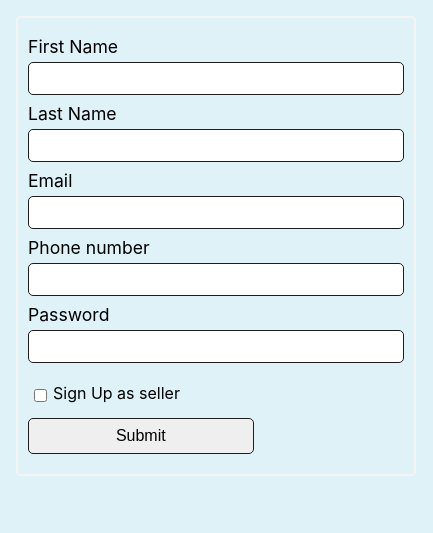
Scenario: Check validations for last_name
This screenshot has width=433, height=533.
In the field with test id "last_name": point(216, 146) x1=28 y1=129 x2=404 y2=162, type "Ae"
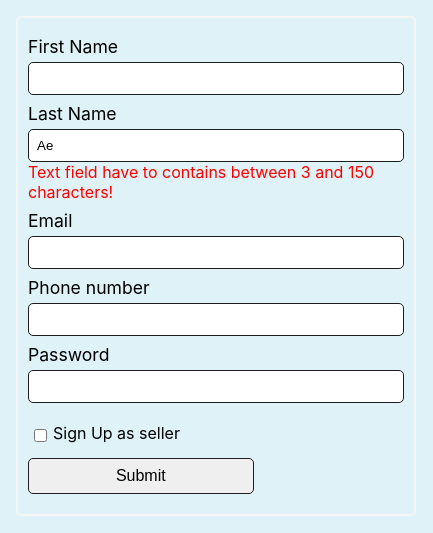
Check: the text "Text field have to contains between 3 and 150 characters!" is shown, box x1=28 y1=162 x2=404 y2=202
Check: the text with test id "valerror-last_name" reads "Text field have to contains between 3 and 150 characters!", box x1=28 y1=162 x2=374 y2=202
Replace the text in the field with test id "last_name" with "ewafewa waef ewaf ewafwe afweaf 34qr43 f43f43wf 4we3 fe4fe4 fef4q a4f 4ef 4ef 43e 4ef4 3efwe4afas efdsa fsdaf443rtt34f34fe4r fddfs fdsgdfsggfsd fsdgdfsgdfsg": point(216, 146) x1=28 y1=129 x2=404 y2=162
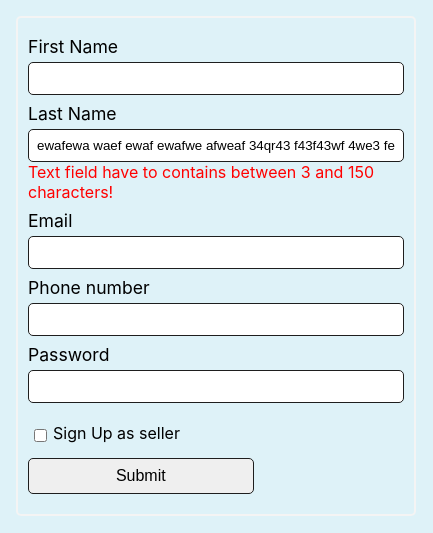
Check: the text "Text field have to contains between 3 and 150 characters!" is shown, box x1=28 y1=162 x2=404 y2=202
Check: the text with test id "valerror-last_name" reads "Text field have to contains between 3 and 150 characters!", box x1=28 y1=162 x2=374 y2=202
Clear the field with test id "last_name": point(216, 146) x1=28 y1=129 x2=404 y2=162
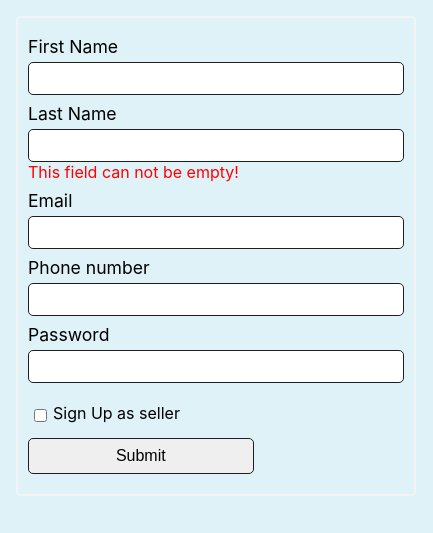
Check: the text with test id "valerror-last_name" reads "This field can not be empty!", box x1=28 y1=162 x2=239 y2=182
